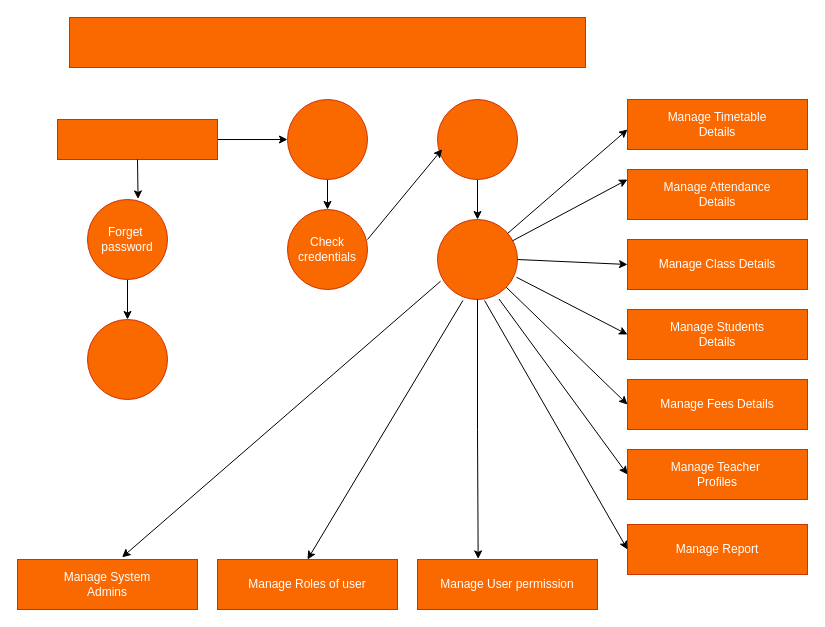
The diagram is 825 pixels wide and 627 high, and some of its shapes have lost their labels. Each missing label, with the centre of its shape:
Admin: (x=137, y=139)
Check roles of Access: (x=477, y=139)
Login to system: (x=327, y=139)
Manage Modules: (x=477, y=259)
Send Email to User: (x=127, y=359)
Student Information System: (x=327, y=42)
